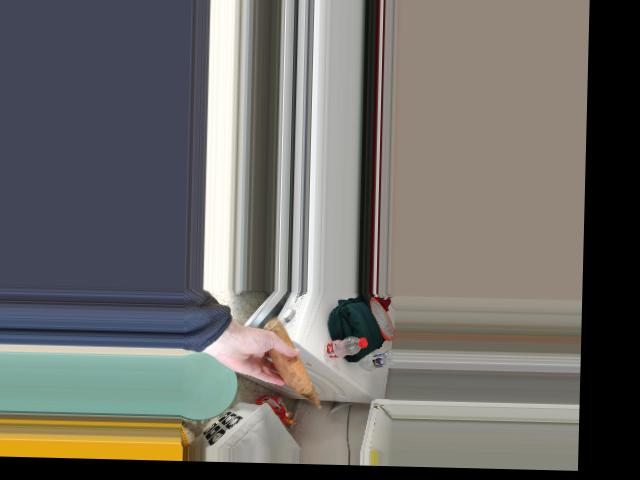sweet_potato: (267, 338, 316, 387)
